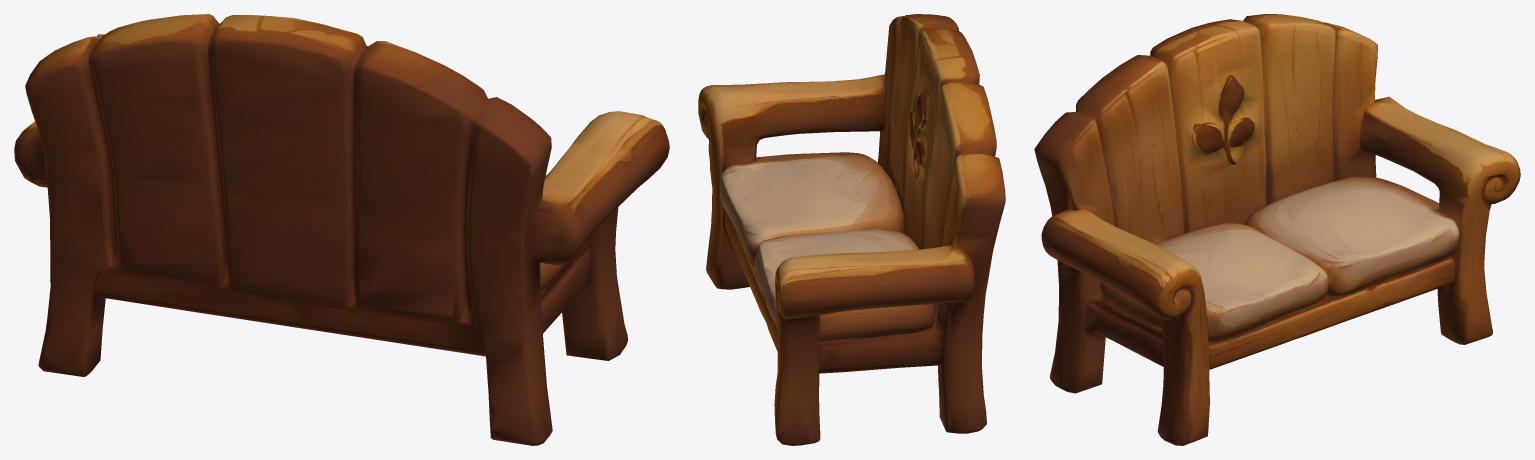
Rendered from sofa_wald_a.glb.
3 renders of one model, left to right at view 1: azimuth 30°, elevation 25°; view 2: azimuth 150°, elevation 25°; view 3: azimuth 270°, elevation 25°, orthographic. The views are drawn at different scales.
Parts seen in each view (by area): view 1: tripo_node_695c1747-d0d7-4f0a-9306-f48f688836ce; view 2: tripo_node_695c1747-d0d7-4f0a-9306-f48f688836ce; view 3: tripo_node_695c1747-d0d7-4f0a-9306-f48f688836ce.
Part boxes in pixels (x1=…): tripo_node_695c1747-d0d7-4f0a-9306-f48f688836ce: x1=14, y1=14, x2=669, y2=445; tripo_node_695c1747-d0d7-4f0a-9306-f48f688836ce: x1=698, y1=14, x2=1005, y2=445; tripo_node_695c1747-d0d7-4f0a-9306-f48f688836ce: x1=1034, y1=14, x2=1520, y2=445.
Bounding box in the file's own units: 1.4 × 1 × 1.48.
1 material, 1 textured.
